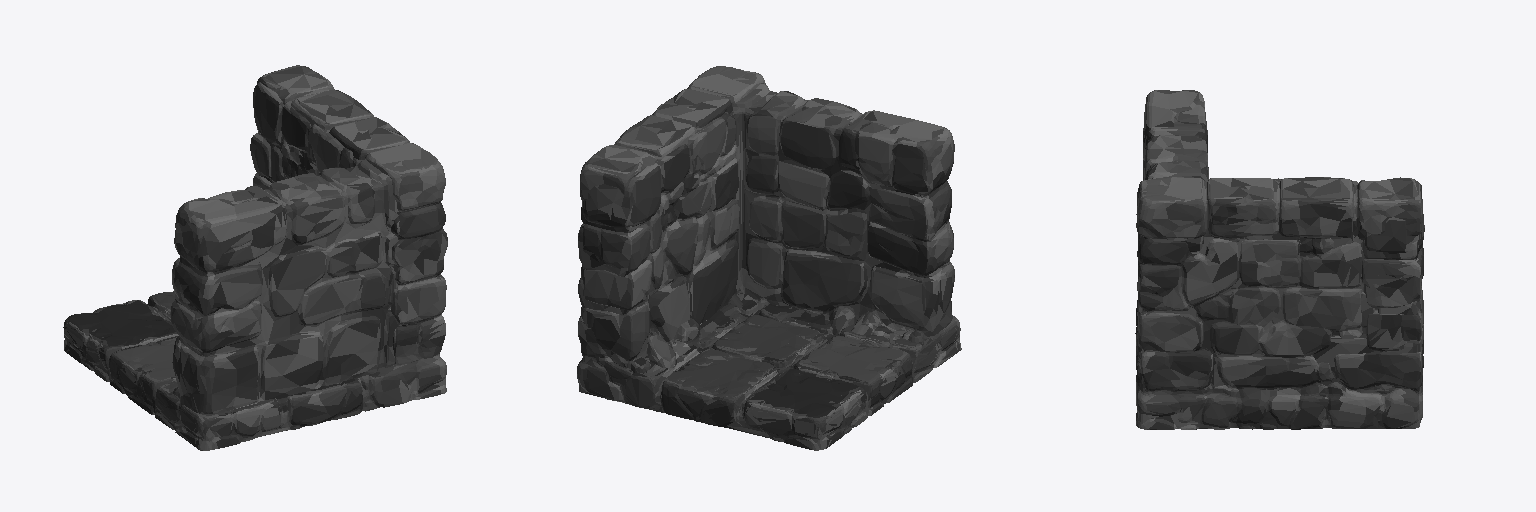
Rendered from dungeon-walls.obj.
3 views of the same model, side by side, from view 1: azimuth 30°, elevation 25°; view 2: azimuth 150°, elevation 25°; view 3: azimuth 270°, elevation 25° (orthographic).
Parts seen in each view (by area): view 1: wall-corner, wall-straight, wall-floor; view 2: wall-corner, wall-straight, wall-floor; view 3: wall-straight, wall-corner.
Boxes of the visible parts, x1,y1,x2,y2 form: wall-corner: [63, 82, 399, 443]; wall-straight: [64, 65, 447, 450]; wall-floor: [64, 291, 369, 447]; wall-corner: [581, 83, 956, 449]; wall-straight: [577, 66, 961, 450]; wall-floor: [602, 302, 958, 450]; wall-straight: [1135, 177, 1422, 429]; wall-corner: [1143, 90, 1424, 395].
Size of the model in its own units: 12.32 by 10.69 by 12.3.